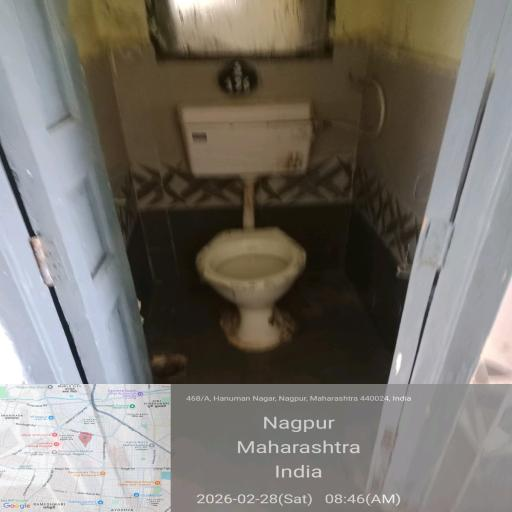dirty_floor: (131, 241, 425, 512)
partial_dirty_western: (159, 150, 371, 350)
